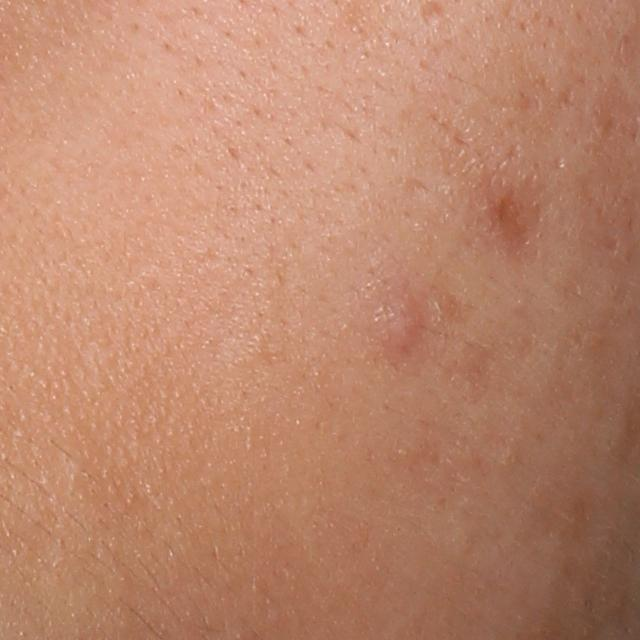papule: (374, 290, 426, 362)
